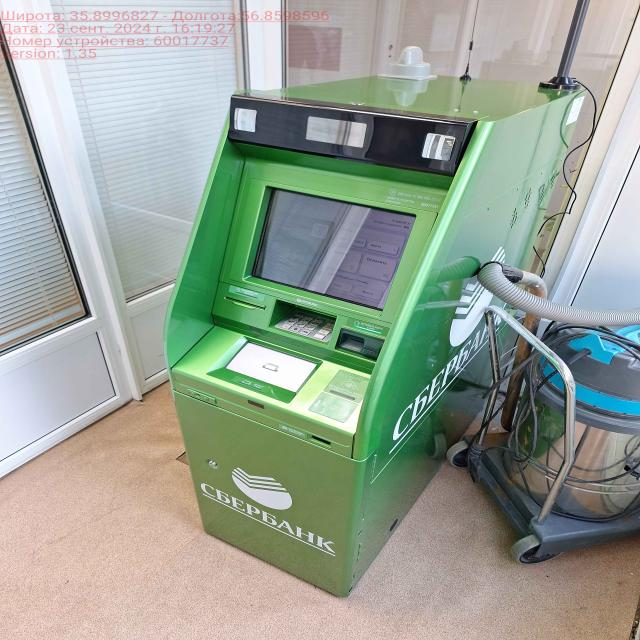bank: (163, 69, 582, 599)
